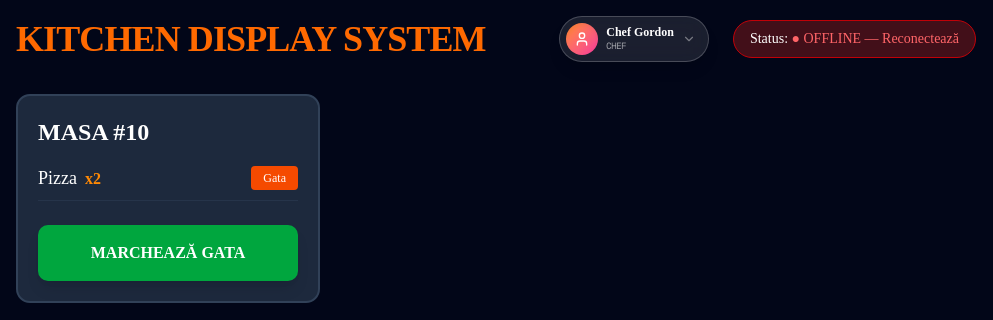
Test case: Chef Dashboard › marks an order as ready
Expected: the heading "MASA #10" is shown, [38,116,149,148]
Click the button "MARCHEAZĂ GATA" at (168, 253), box [38,225,298,281]
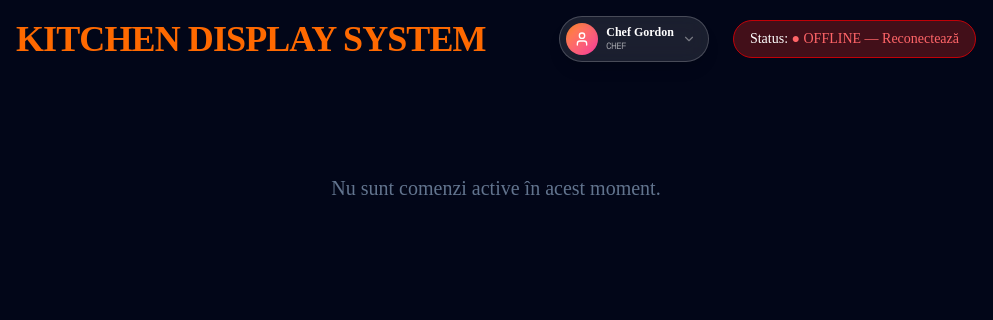
Expected: the heading "MASA #10" is gone
